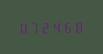eight: (73, 19, 83, 33)
four: (51, 20, 61, 33)
seven: (28, 20, 38, 34)
six: (62, 19, 72, 33)
two: (40, 20, 50, 34)
zero: (17, 20, 27, 34)
